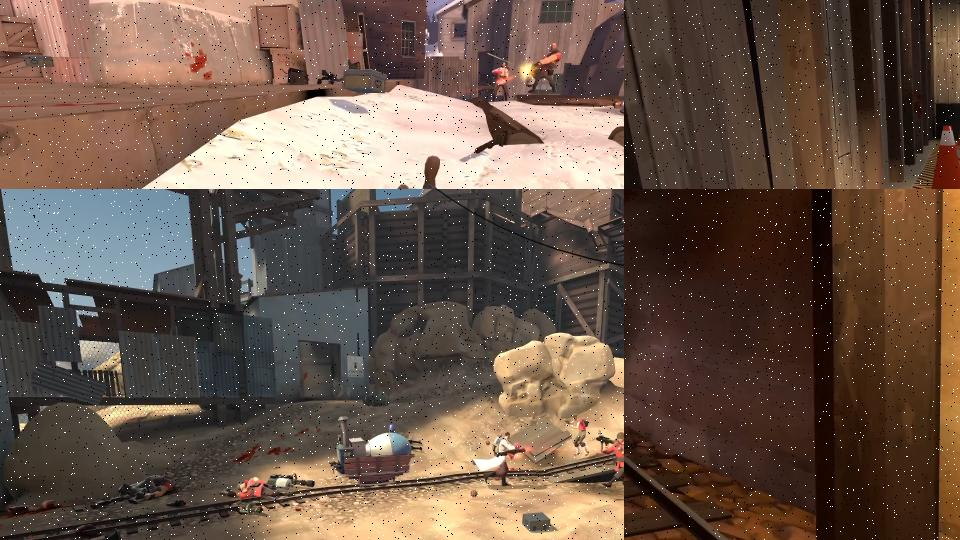Enemy: (472, 431, 526, 487), (110, 471, 175, 505), (595, 429, 624, 499), (525, 42, 561, 94), (236, 476, 294, 502), (565, 413, 592, 457), (491, 62, 511, 102)
